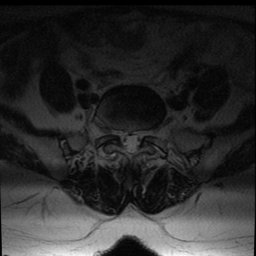CCS_normal: (127, 123, 134, 160)
LFS_stenosis: (142, 118, 150, 144)
LLS_normal: (134, 122, 142, 156)
RFS_stenosis: (111, 117, 119, 143)
RLS_normal: (119, 122, 127, 154)
